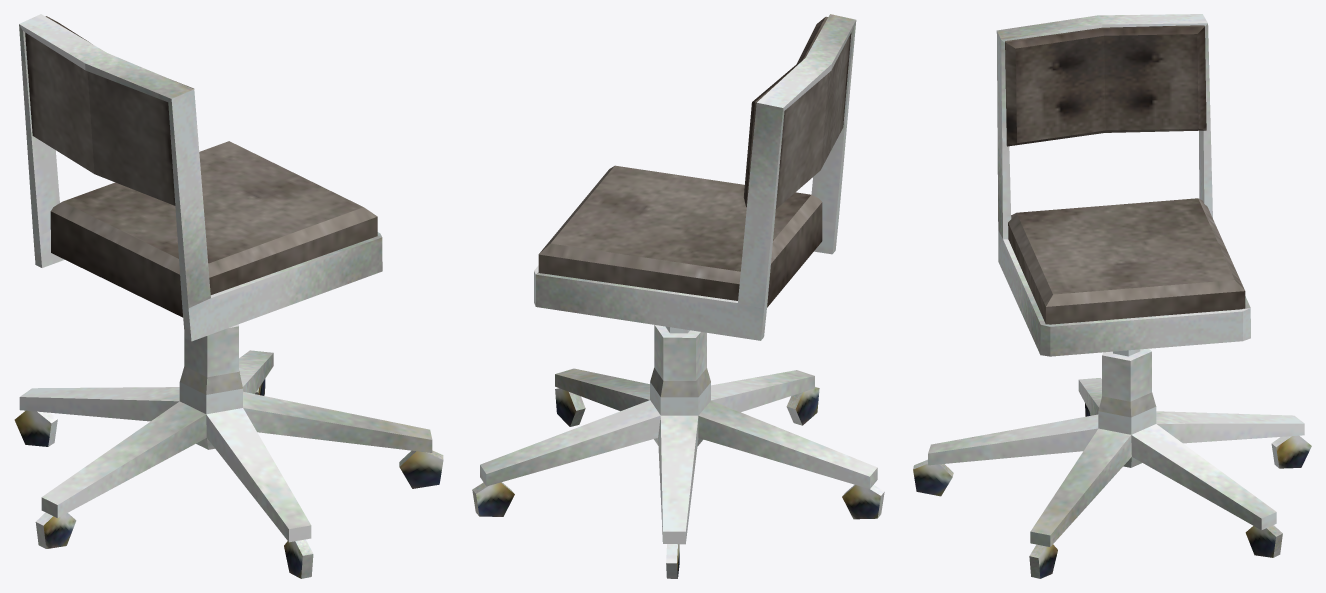
File: chair_03.fbx
3 views of the same model, side by side, from view 1: azimuth 30°, elevation 25°; view 2: azimuth 150°, elevation 25°; view 3: azimuth 270°, elevation 25° (orthographic). The views are drawn at different scales.
Visible parts, largest first — view 1: office_chair_grey; view 2: office_chair_grey; view 3: office_chair_grey.
Part boxes in pixels (bbox=[...]): office_chair_grey: bbox=[14, 14, 443, 578]; office_chair_grey: bbox=[472, 14, 884, 578]; office_chair_grey: bbox=[913, 14, 1311, 578].
Bounding box in the file's own units: 90.18 × 110 × 92.5.
